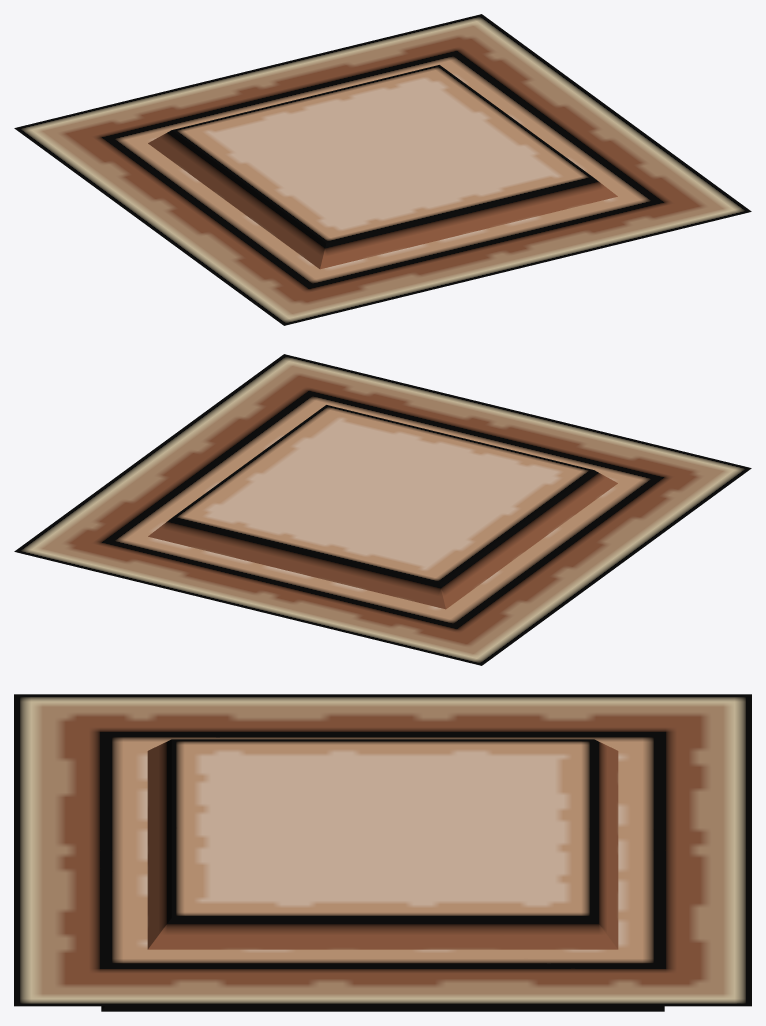
File: deco_button_pressed.FBX
3 views of the same model, one above another, from view 1: azimuth 30°, elevation 25°; view 2: azimuth 150°, elevation 25°; view 3: azimuth 270°, elevation 25° (orthographic). The views are drawn at different scales.
Parts seen in each view (by area): view 1: deco_button_pressed; view 2: deco_button_pressed; view 3: deco_button_pressed.
Part boxes in pixels (x1,y1,x2,y2): deco_button_pressed: (14, 14, 751, 325); deco_button_pressed: (14, 354, 751, 665); deco_button_pressed: (14, 694, 751, 1011).
Size of the model in its own units: 2 by 0.1909 by 2.
Materials: 1 (1 with a texture image).
